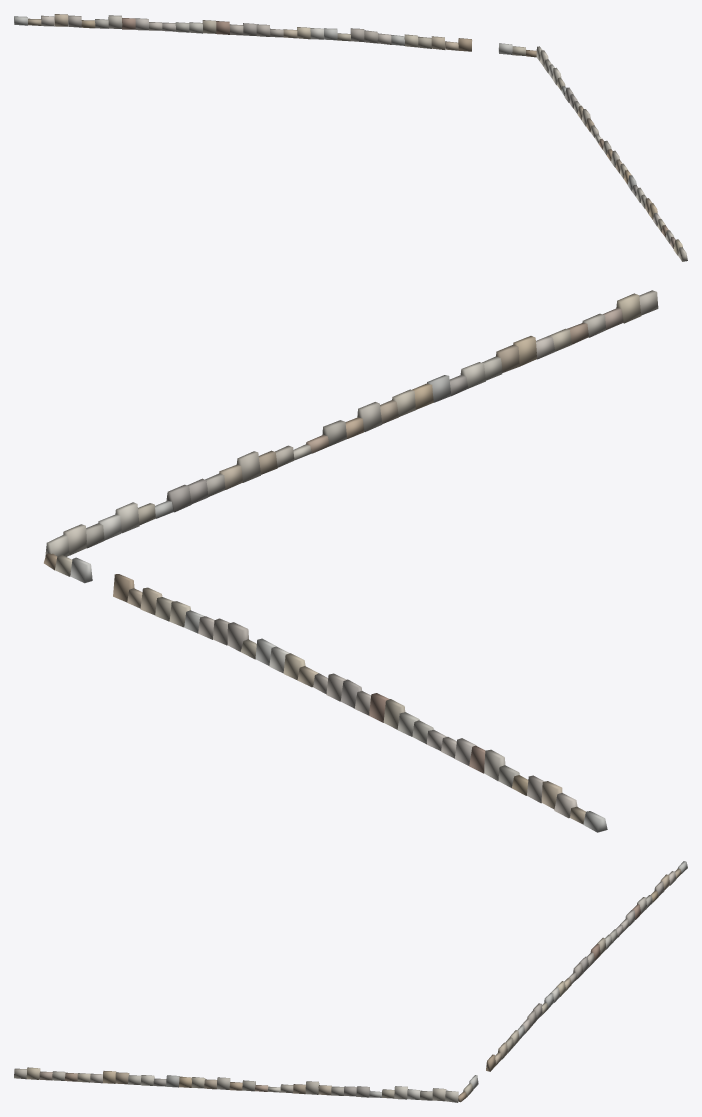
Rendered from farm_-37_-26_far.glb.
3 renders of one model, top to bottom at view 1: azimuth 30°, elevation 25°; view 2: azimuth 150°, elevation 25°; view 3: azimuth 270°, elevation 25°, orthographic. The views are drawn at different scales.
Parts seen in each view (by area): view 1: geometry_0; view 2: geometry_0; view 3: geometry_0.
Boxes of the visible parts, x1,y1,x2,y2 form: geometry_0: (14,14,687,261); geometry_0: (44,290,658,832); geometry_0: (14,861,687,1102).
Bounding box in the file's own units: 55.57 × 8.97 × 82.4.
